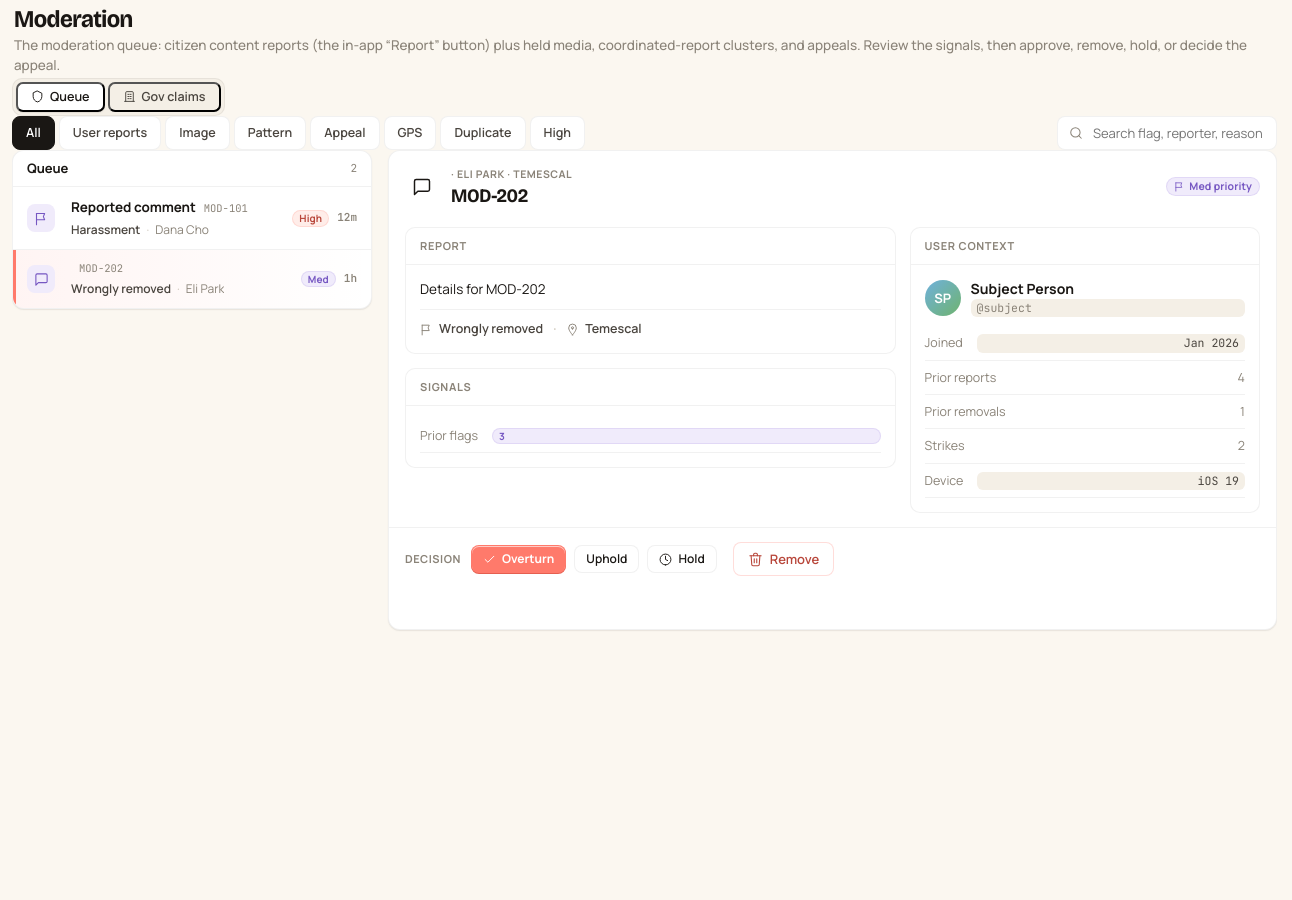
Test: ModerationPage selection after a decision › drops the deep link when the operator switches sections, so Queue opens its first item again
Check: the heading "MOD-202" is shown, box [451,184,528,207]
Click the radio button labelled "Gov claims" at (164, 96), box [108,82,220,112]
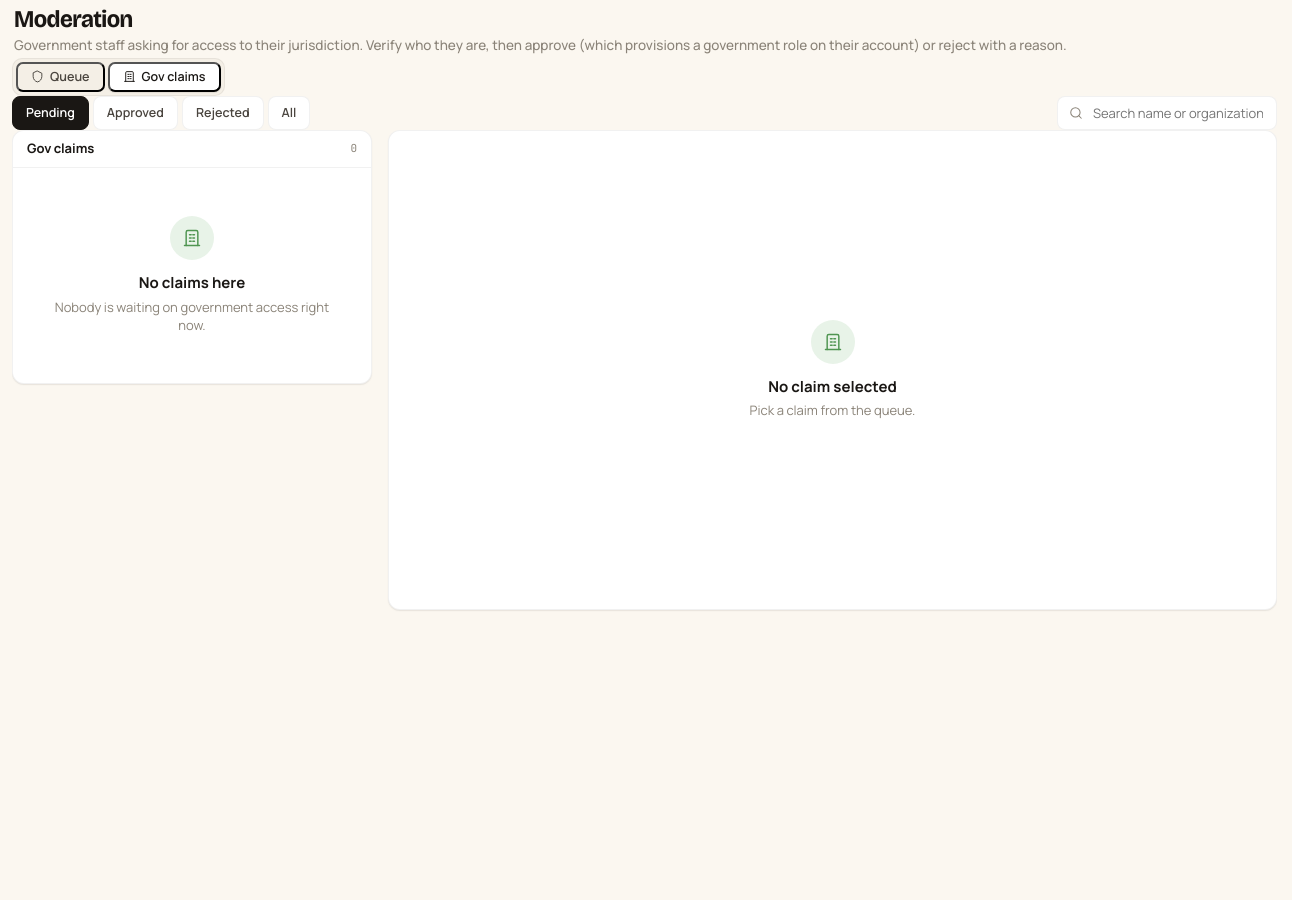
Check: the text "No claims here" is shown, box [139,272,245,294]
Click the radio button labelled "Queue" at (60, 77), box [16,62,104,92]
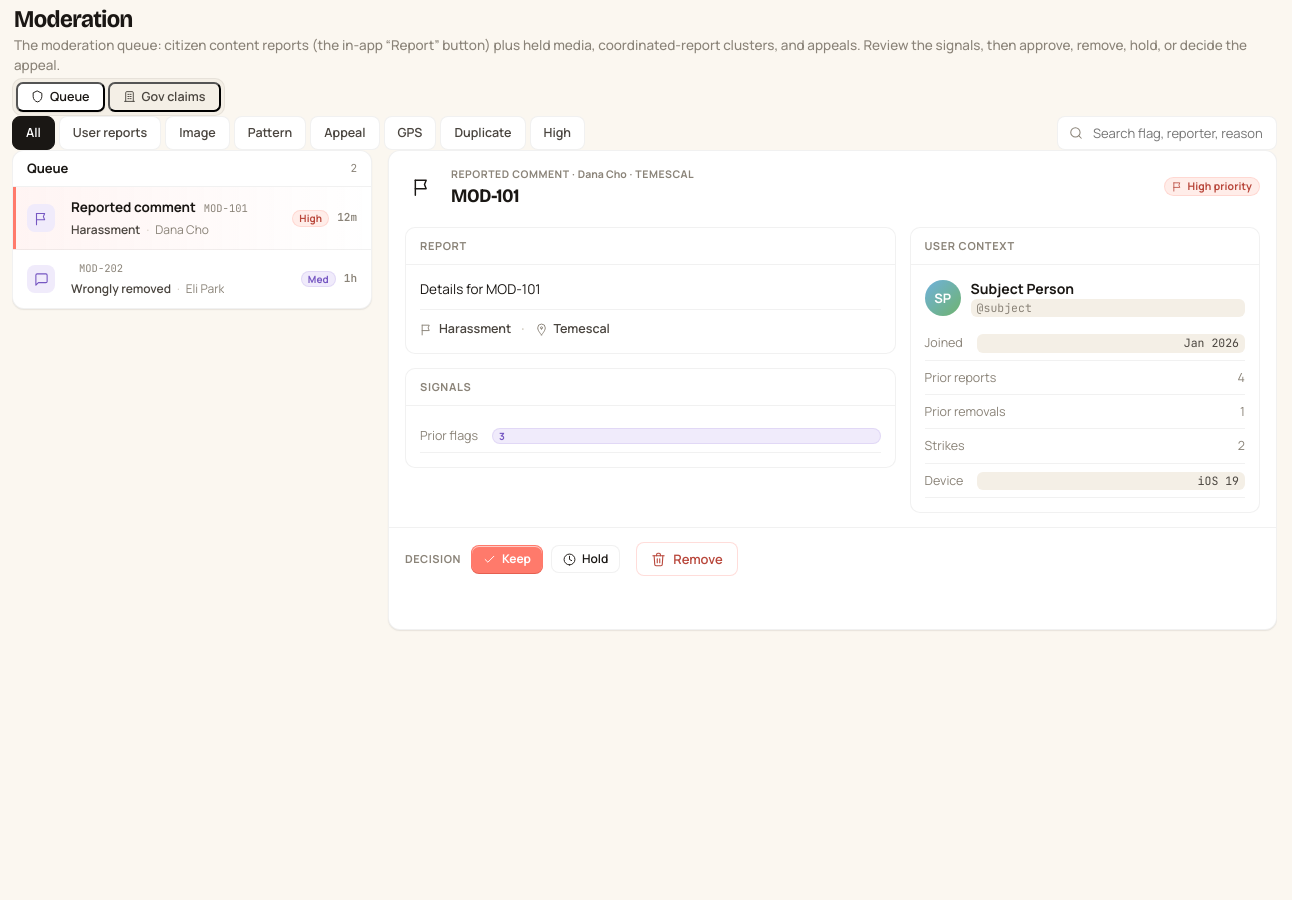
Check: the heading "MOD-101" is shown, box [451,184,519,207]
